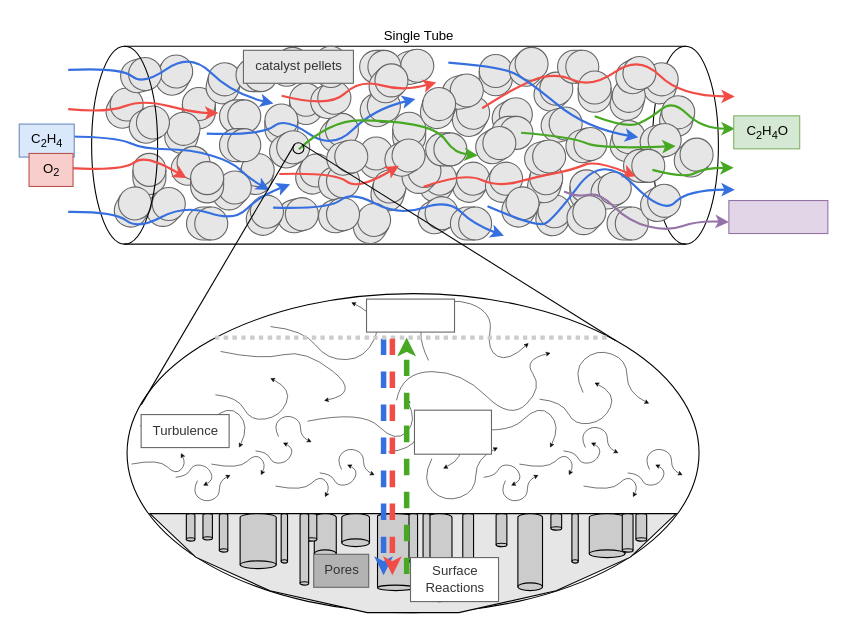
Image size: 848x631. Some labels were removed from this diagram. Each missing label, with the centre of its shape:
"CO 2 & H 2 O" goes at pixel 778 216.
"Turbulent Diffusion" goes at pixel 452 431.
"Well Mixed" goes at pixel 410 315.
